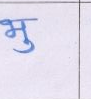u_matra: (14, 39, 36, 54)
